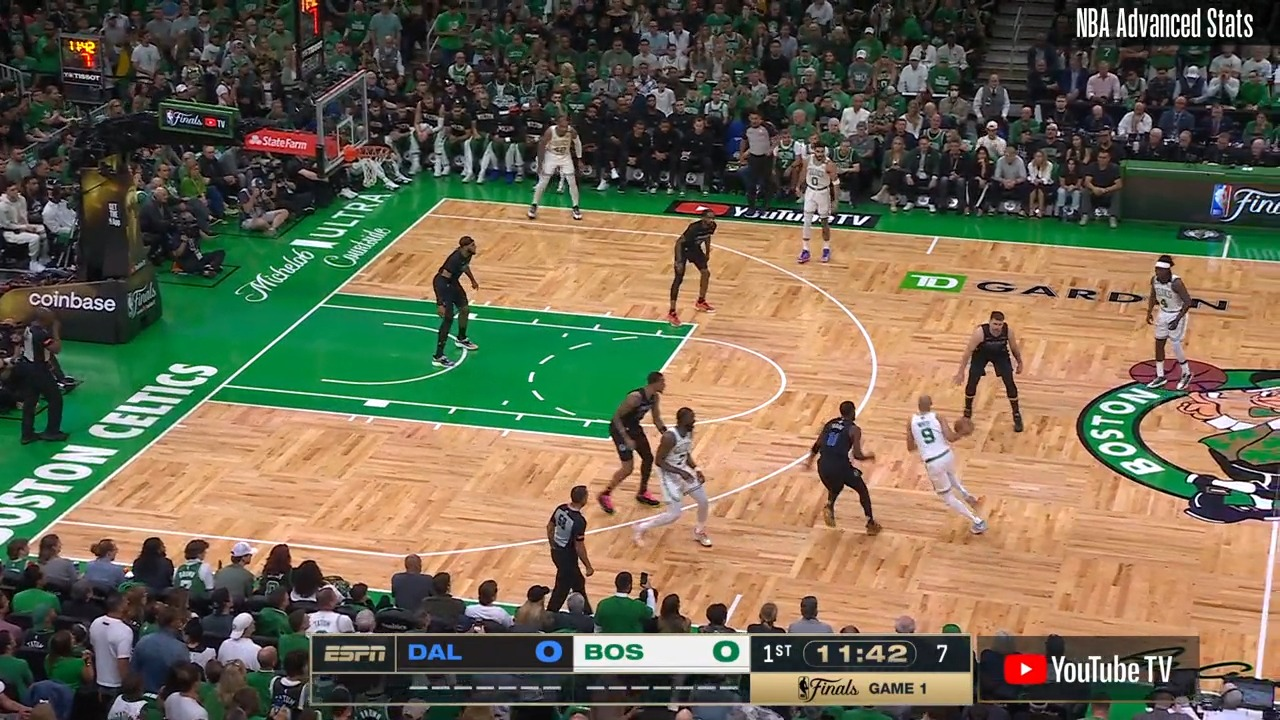basketball: (954, 416, 975, 438)
